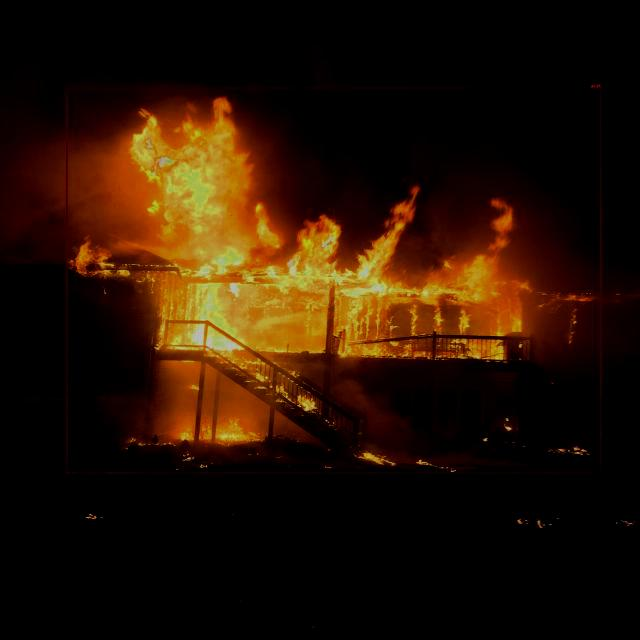fire: (66, 88, 602, 474)
